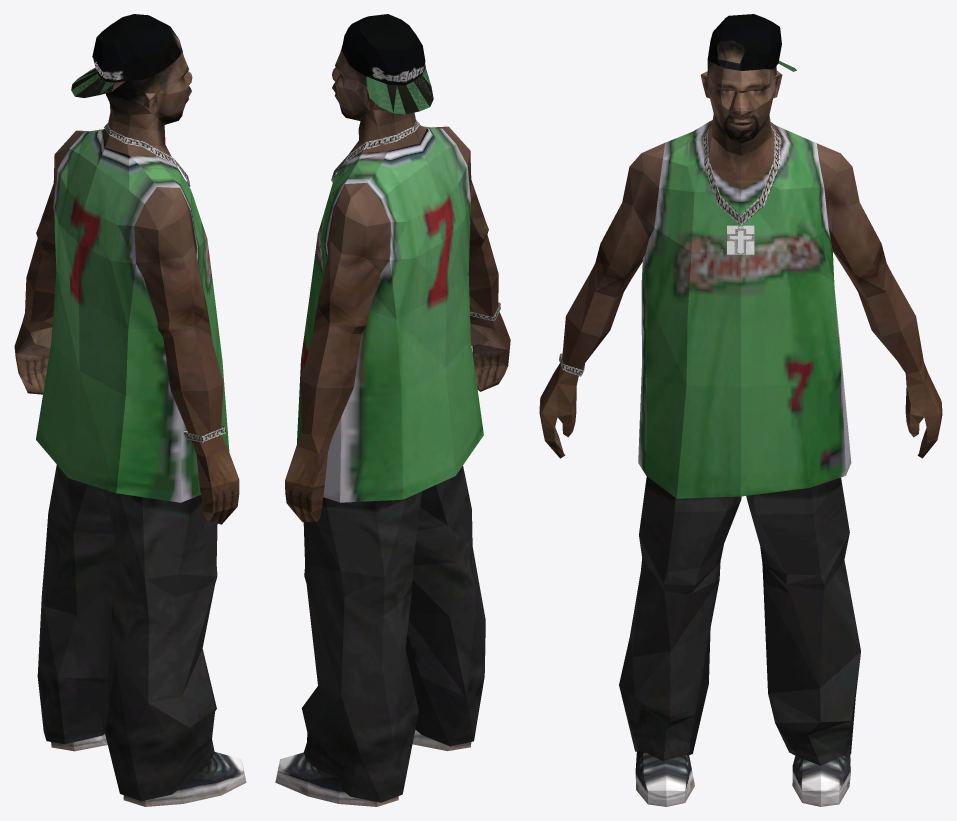
The model's file is fam3.obj.
3 renders of one model, left to right at view 1: azimuth 30°, elevation 25°; view 2: azimuth 150°, elevation 25°; view 3: azimuth 270°, elevation 25°, orthographic.
Parts seen in each view (by area): view 1: _Pelvis; view 2: _Pelvis; view 3: _Pelvis.
Boxes of the visible parts, left/top/right/bottom form: _Pelvis: left=14, top=14, right=246, bottom=806; _Pelvis: left=275, top=14, right=510, bottom=806; _Pelvis: left=539, top=14, right=942, bottom=806.
Bounding box in the file's own units: 0.3851 × 1.91 × 0.922.
2 materials, 2 textured.
